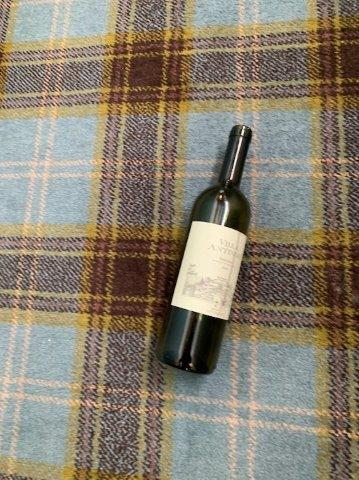botolkaca: (156, 124, 253, 375)
